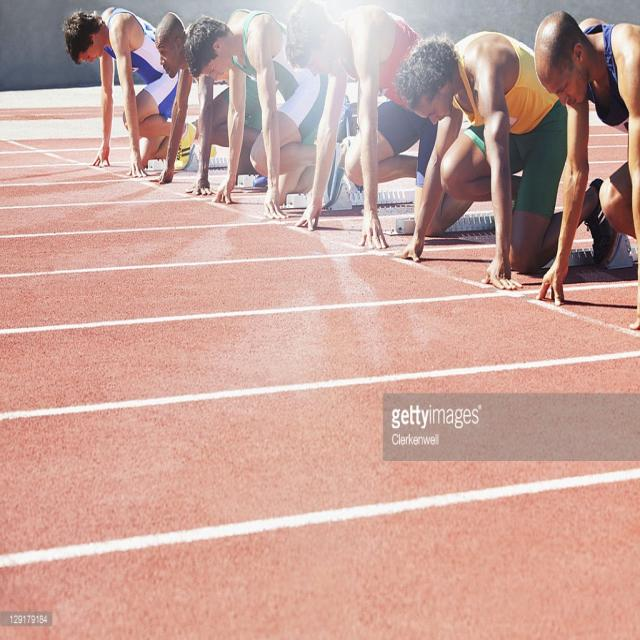body: (388, 25, 624, 298), (286, 0, 477, 251), (530, 5, 640, 342), (183, 8, 348, 222), (58, 2, 220, 182), (146, 10, 268, 199), (0, 0, 54, 91), (396, 1, 538, 33)
